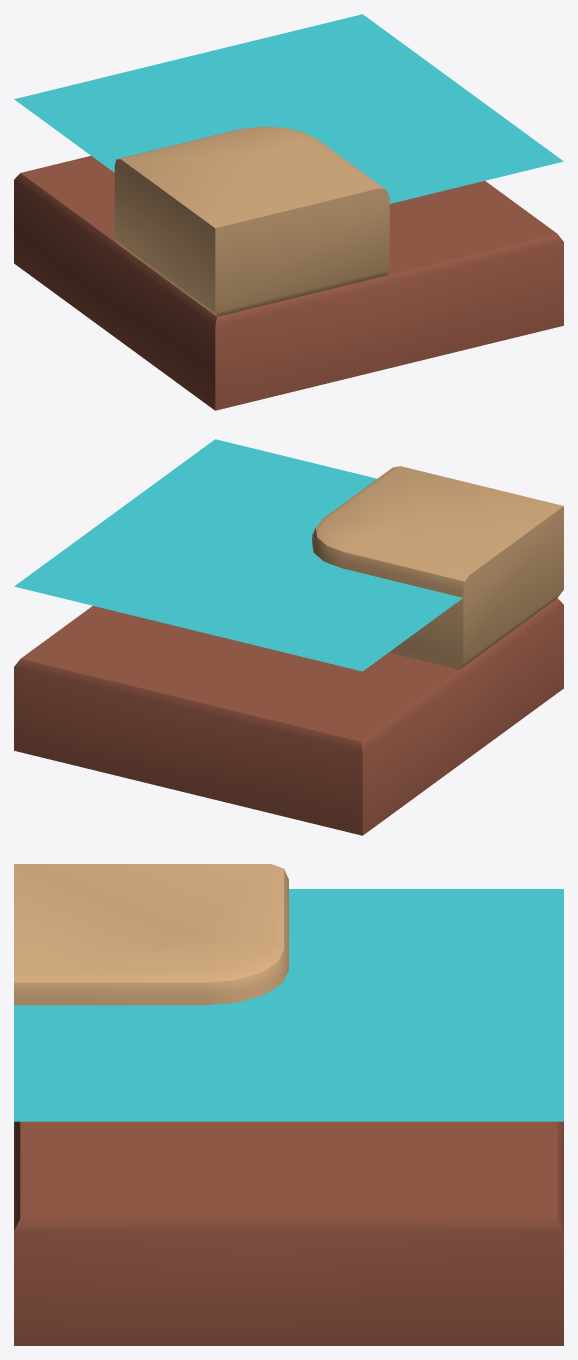
File: square_sand_waterOuterCorner_noSides.glb
3 renders of one model, top to bottom at view 1: azimuth 30°, elevation 25°; view 2: azimuth 150°, elevation 25°; view 3: azimuth 270°, elevation 25°, orthographic. The views are drawn at different scales.
Parts seen in each view (by area): view 1: square_sand_waterOuterCorner_noSides; view 2: square_sand_waterOuterCorner_noSides; view 3: square_sand_waterOuterCorner_noSides.
Boxes of the visible parts, x1=… form: square_sand_waterOuterCorner_noSides: x1=14, y1=14, x2=563, y2=410; square_sand_waterOuterCorner_noSides: x1=14, y1=439, x2=563, y2=835; square_sand_waterOuterCorner_noSides: x1=14, y1=864, x2=563, y2=1345.
Bounding box in the file's own units: 2 × 1 × 2.
